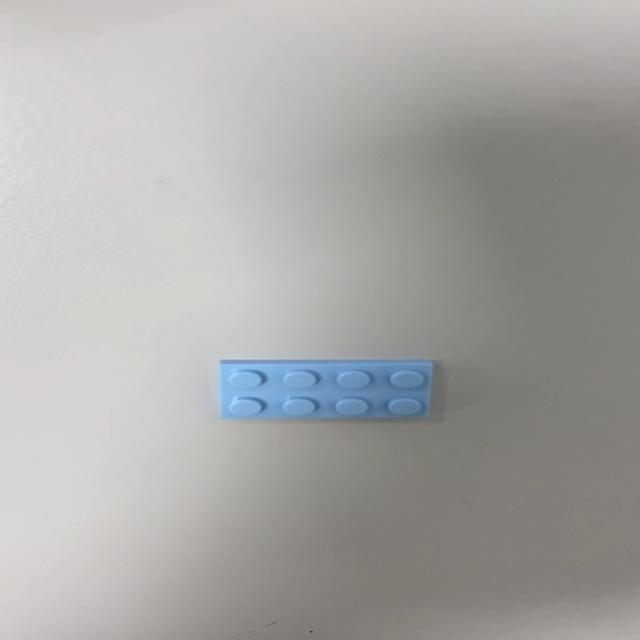C4x2x0: (217, 358, 434, 420)
